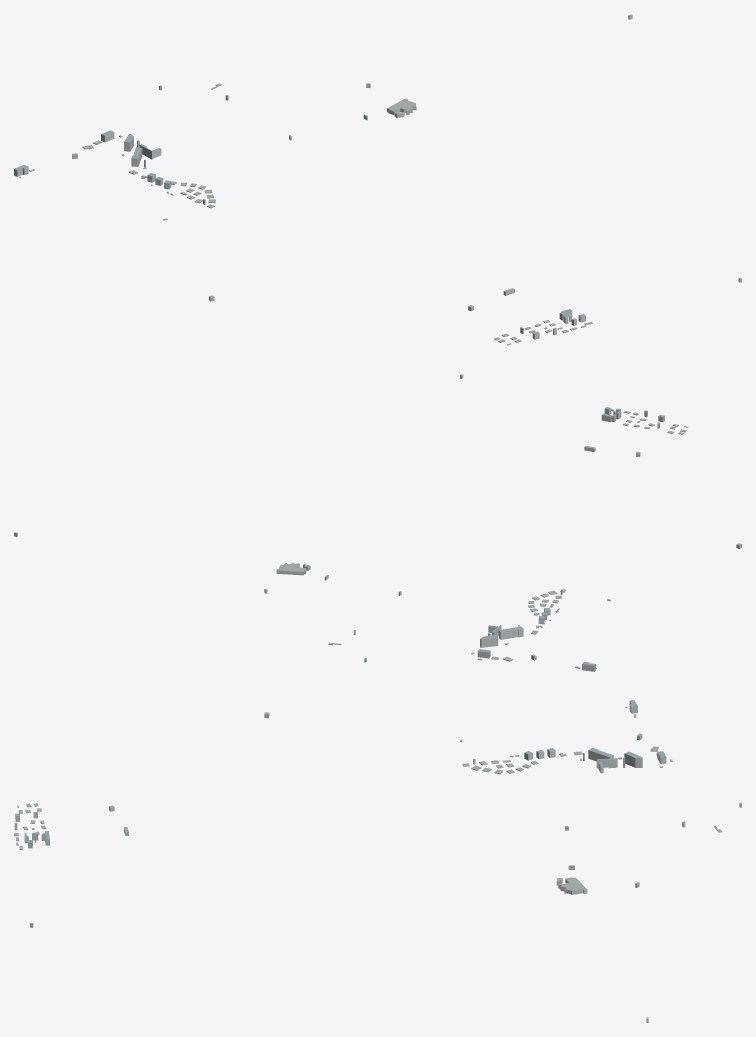
3 renders of one model, top to bottom at view 1: azimuth 30°, elevation 25°; view 2: azimuth 150°, elevation 25°; view 3: azimuth 270°, elevation 25°, orthographic. The views are drawn at different scales.
Parts seen in each view (by area): view 1: 上海全域建筑分块 · mapped building neighborhood; view 2: 上海全域建筑分块 · mapped building neighborhood; view 3: 上海全域建筑分块 · mapped building neighborhood.
Part boxes in pixels (x1=…): 上海全域建筑分块 · mapped building neighborhood: x1=14, y1=14, x2=741, y2=345; 上海全域建筑分块 · mapped building neighborhood: x1=14, y1=374, x2=741, y2=671; 上海全域建筑分块 · mapped building neighborhood: x1=14, y1=700, x2=741, y2=1022.
Size of the model in its own units: 2068 by 30 by 2014.
